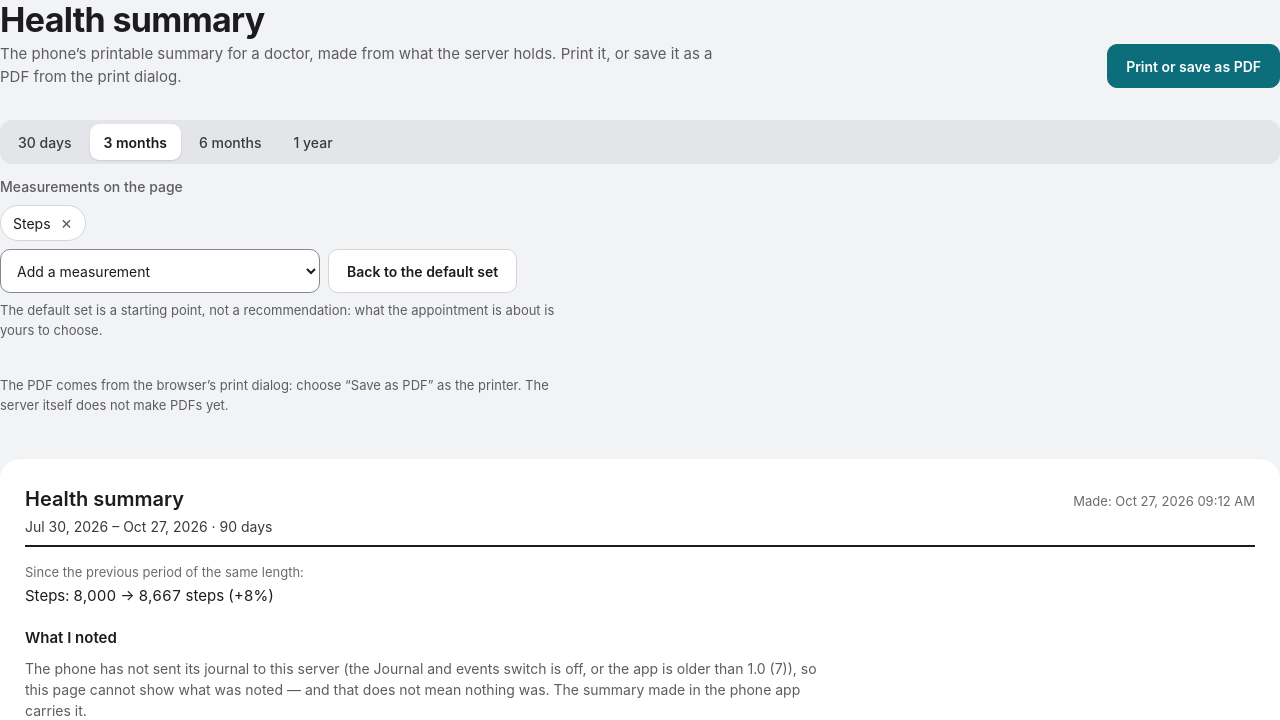
Test: the health summary page › removing every measurement asks for one instead of restoring the default
The width and height of the screenshot is (1280, 720).
What coordinates should you click on to do the following:
click the button named "Remove Steps"
I would click on:
 (67, 223)
Its box is [53, 209, 81, 237].
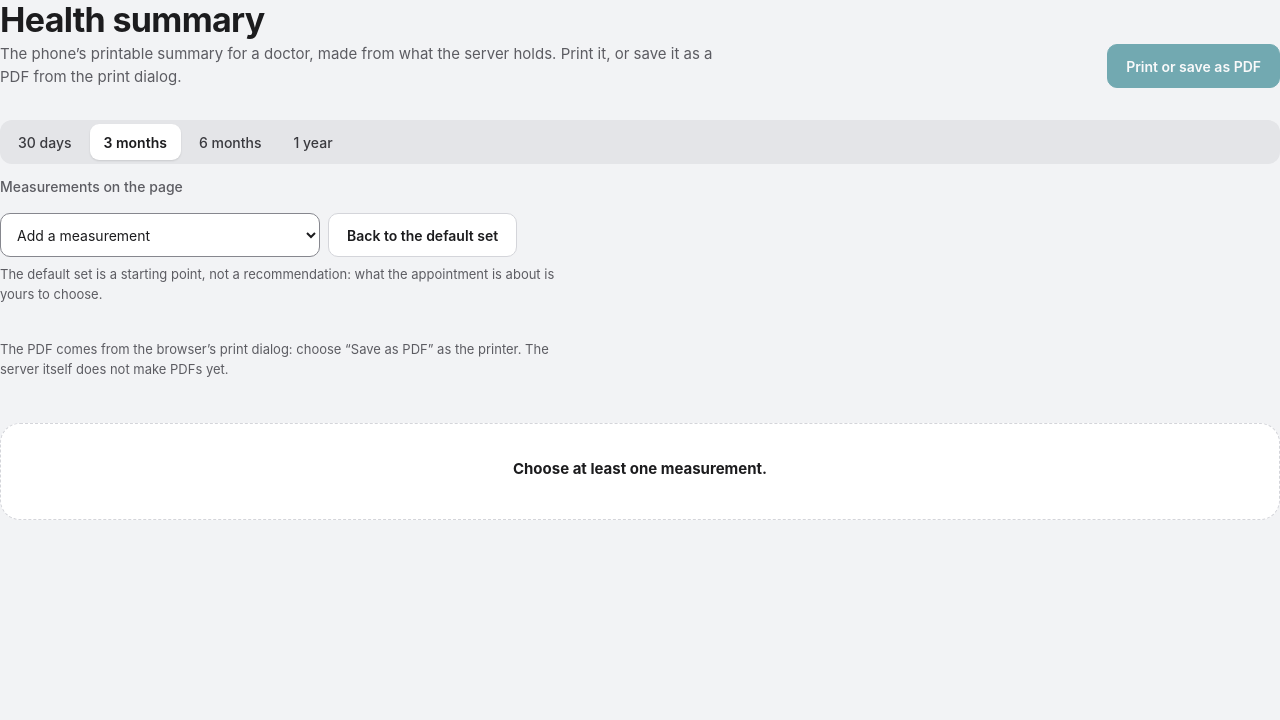
Check: the text "Choose at least one measurement." is shown, box [513, 459, 767, 478]
Check: the button "Print or save as PDF" is disabled, box [1107, 44, 1279, 88]
